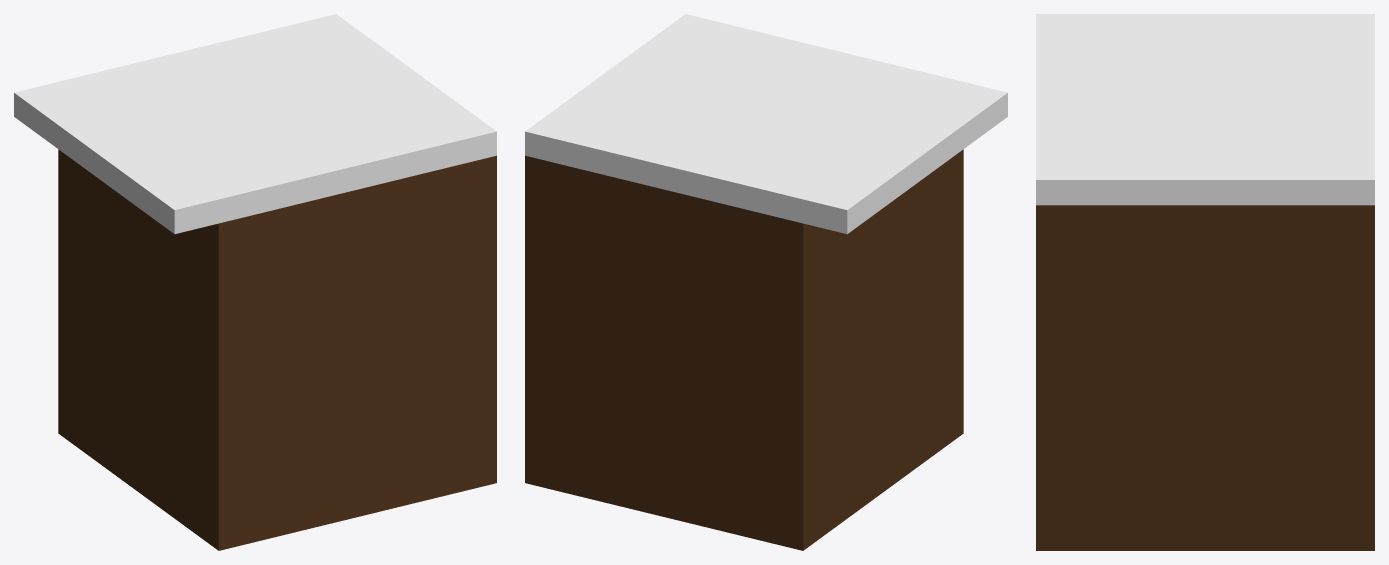
The model's file is Counter 1.fbx.
The picture shows the model from 3 angles, left to right: view 1: azimuth 30°, elevation 25°; view 2: azimuth 150°, elevation 25°; view 3: azimuth 270°, elevation 25°; orthographic projection. The views are drawn at different scales.
Parts seen in each view (by area): view 1: Counter 1; view 2: Counter 1; view 3: Counter 1.
Part boxes in pixels (x1,y1,x2,y2): Counter 1: (14,14,496,550); Counter 1: (525,14,1007,550); Counter 1: (1036,14,1374,550).
Bounding box in the file's own units: 116 × 121 × 100.
